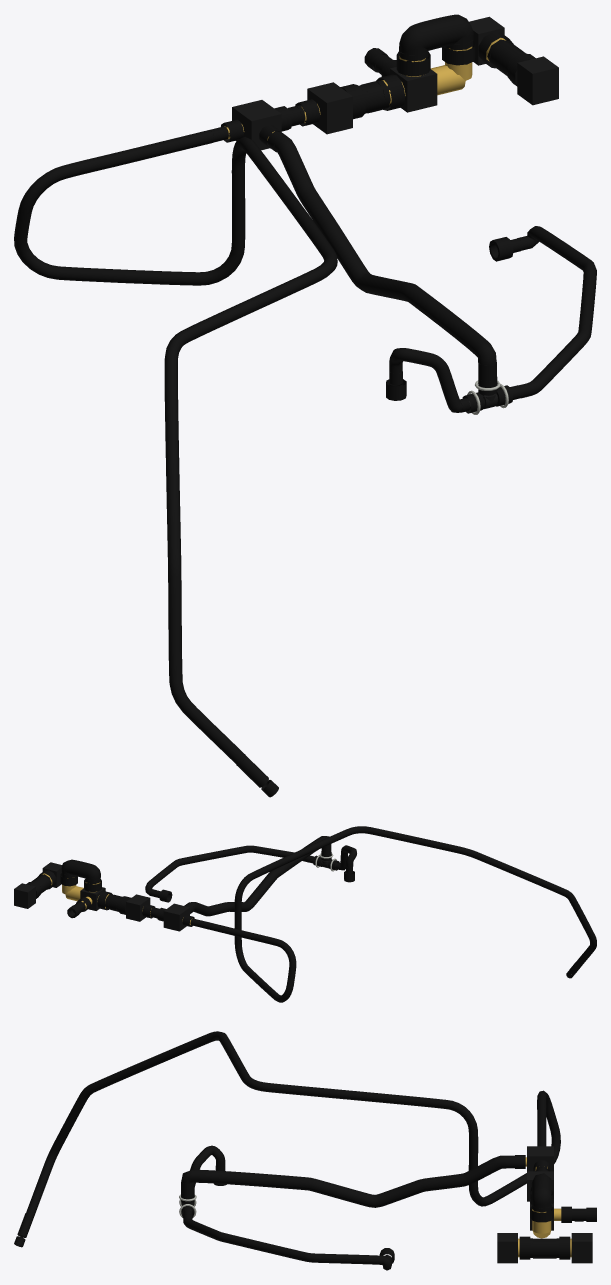
File: vacuum-fittings.glb
3 views of the same model, one above another, from view 1: azimuth 30°, elevation 25°; view 2: azimuth 150°, elevation 25°; view 3: azimuth 270°, elevation 25° (orthographic). The views are drawn at different scales.
Parts seen in each view (by area): view 1: vacuum-fittings:rubber, vacuum-fittings:blackPlastic, vacuum-fittings:brass; view 2: vacuum-fittings:rubber, vacuum-fittings:blackPlastic, vacuum-fittings:brass; view 3: vacuum-fittings:rubber, vacuum-fittings:blackPlastic, vacuum-fittings:brass.
Part boxes in pixels (bbox=[...]): vacuum-fittings:rubber: bbox=[14, 14, 596, 797]; vacuum-fittings:blackPlastic: bbox=[232, 16, 558, 409]; vacuum-fittings:brass: bbox=[224, 37, 505, 140]; vacuum-fittings:rubber: bbox=[26, 826, 596, 1002]; vacuum-fittings:blackPlastic: bbox=[14, 853, 336, 931]; vacuum-fittings:brass: bbox=[42, 873, 192, 924]; vacuum-fittings:rubber: bbox=[14, 1031, 596, 1270]; vacuum-fittings:blackPlastic: bbox=[182, 1146, 592, 1263]; vacuum-fittings:brass: bbox=[518, 1157, 571, 1257].
Bounding box in the file's own units: 379 × 185 × 392.
